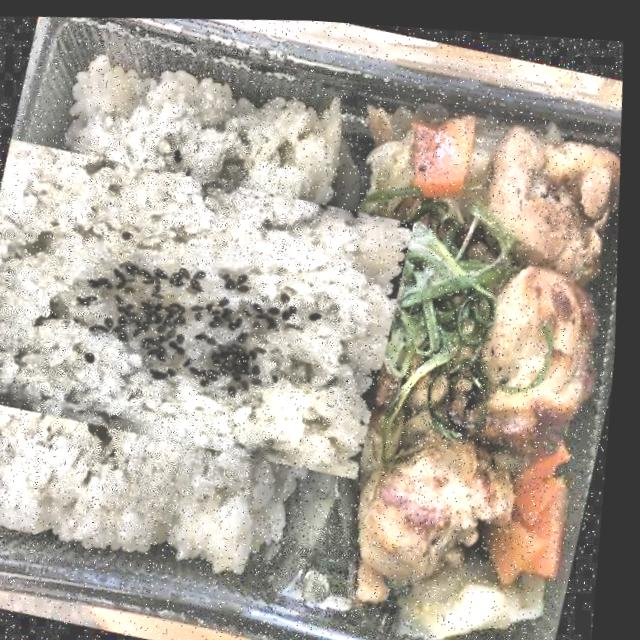Food: (0, 74, 402, 532)
